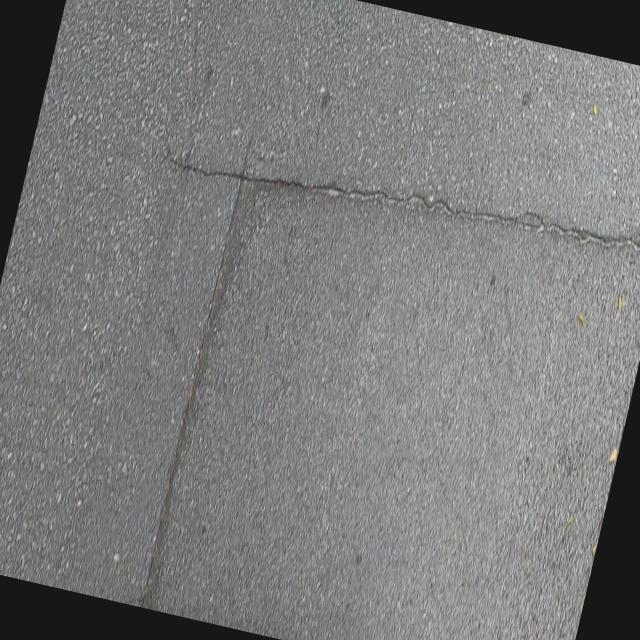Retak-Melintang: (164, 150, 640, 257)
Retak-Memanjang: (133, 123, 252, 608)
